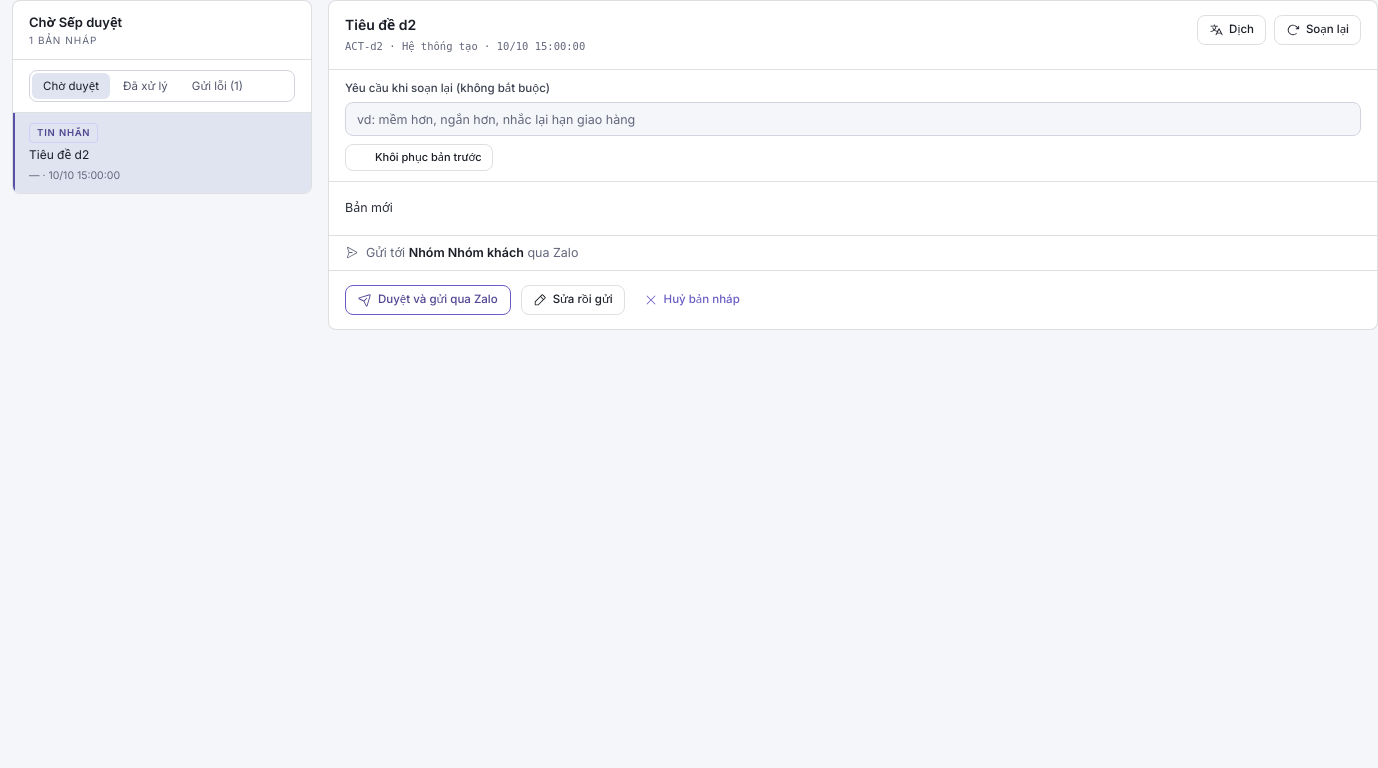
Test: F081 — Soạn lại có ô yêu cầu và khôi phục bản trước › có bản cũ ⇒ nút "Khôi phục bản trước" đưa bản gần nhất vào ô sửa; chưa có thì không hiện nút
Click the button "Khôi phục bản trước" at (419, 158), box [345,144,493,171]
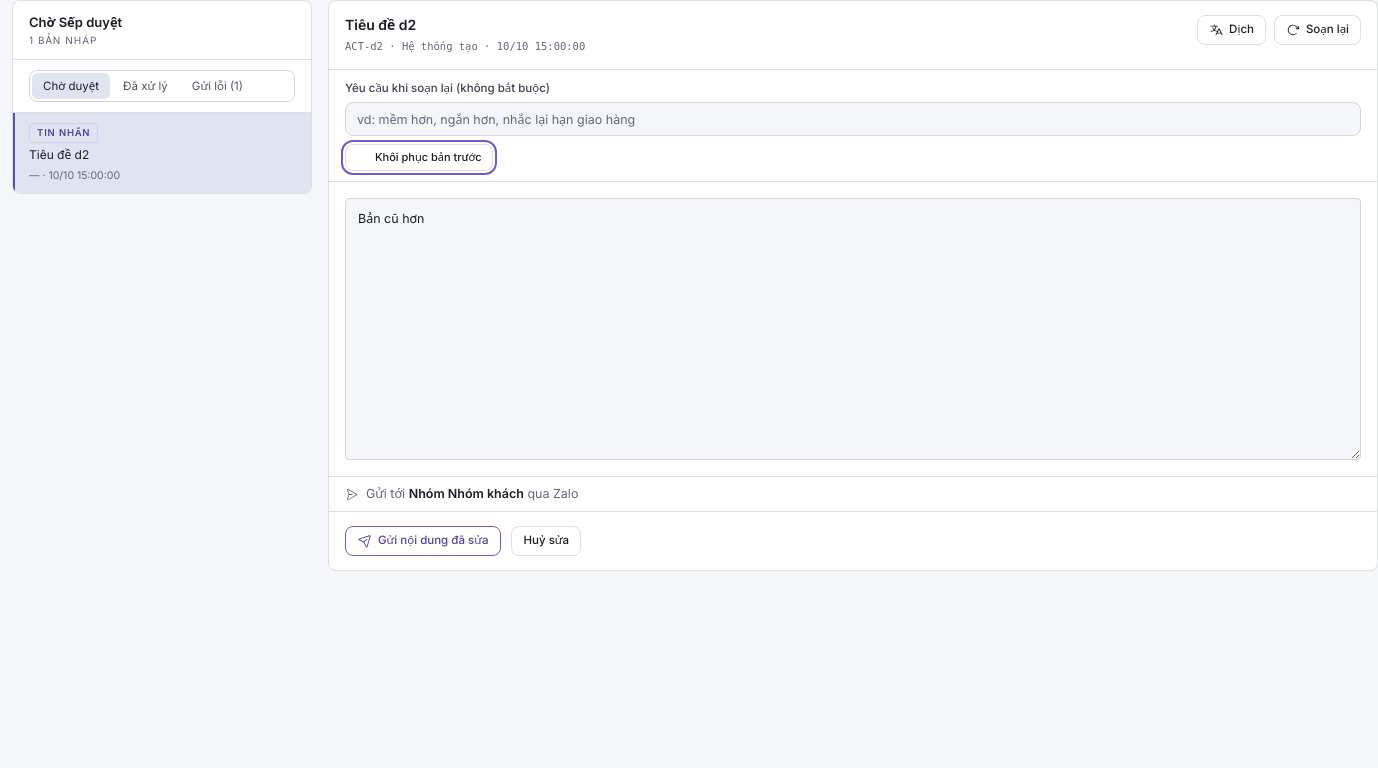
Check: the text box named "Sửa nội dung bản nháp" holds "Bản cũ hơn", box [345,198,1361,460]
